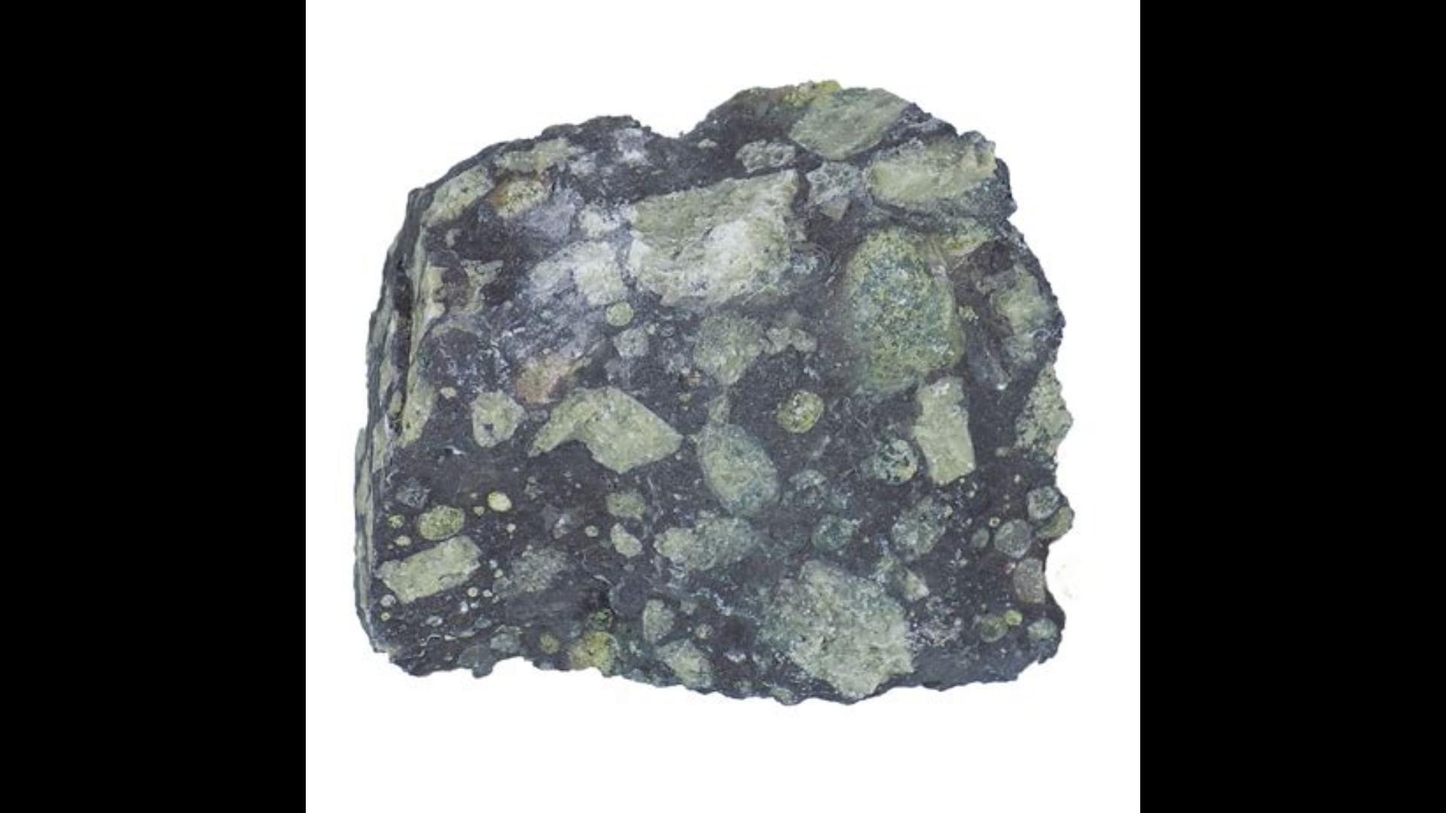rock: (360, 83, 1070, 700)
